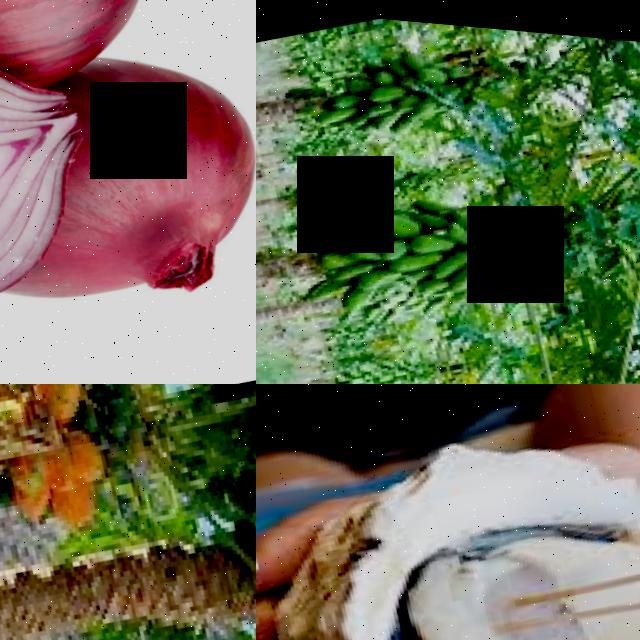onion: (34, 20, 256, 317), (0, 19, 70, 356)
oysters: (256, 384, 640, 640)
pawpaw: (447, 246, 503, 288), (390, 238, 451, 271), (367, 199, 418, 236), (365, 72, 413, 103)
